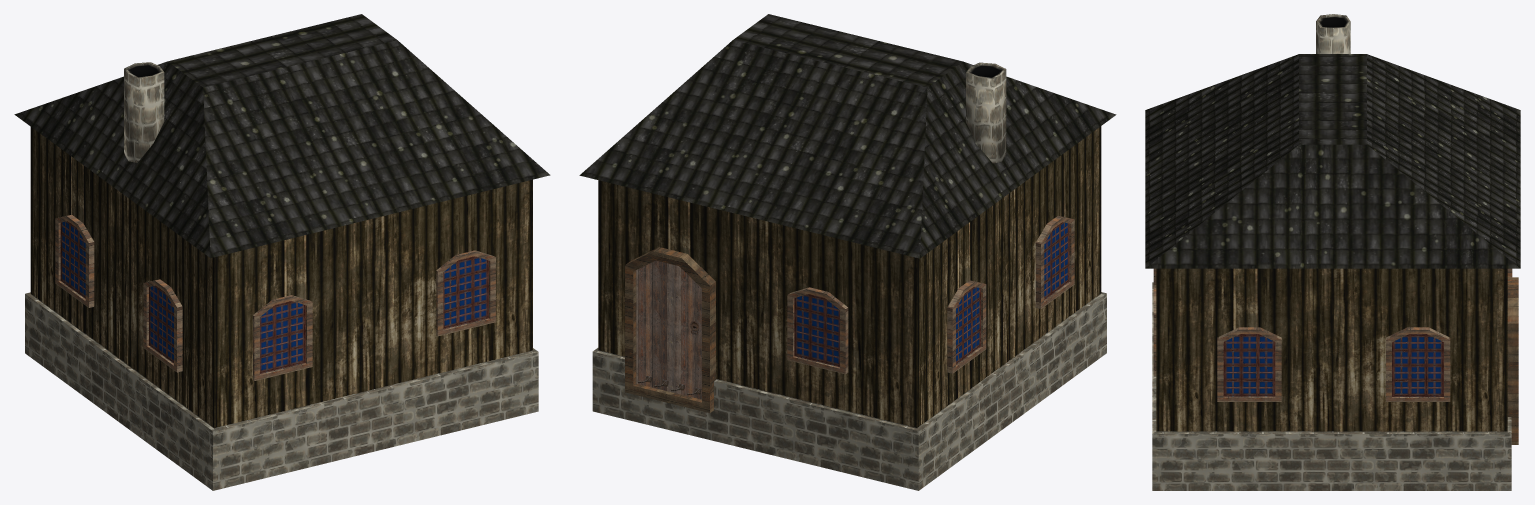
Rendered from building-2.glb.
3 renders of one model, left to right at view 1: azimuth 30°, elevation 25°; view 2: azimuth 150°, elevation 25°; view 3: azimuth 270°, elevation 25°, orthographic. The views are drawn at different scales.
Visible parts, largest first — view 1: Building_2; view 2: Building_2; view 3: Building_2.
Boxes of the visible parts, box(x1,y1,x2,y2) form: Building_2: box(14, 14, 550, 490); Building_2: box(579, 14, 1116, 490); Building_2: box(1145, 14, 1520, 490).
Bounding box in the file's own units: 4.45 × 4.32 × 4.45.
Materials: 3 (3 with a texture image).
